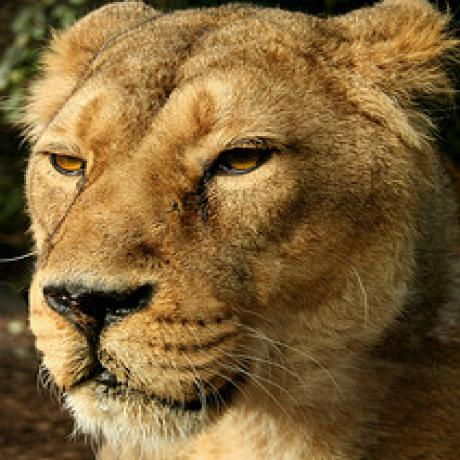Lion: (15, 2, 460, 458)
